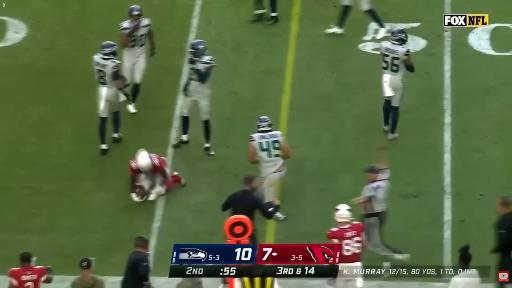Helmet: (135, 149, 153, 173), (189, 40, 207, 58), (391, 28, 408, 45), (100, 42, 117, 58), (257, 116, 273, 132), (334, 210, 352, 223), (128, 5, 143, 18), (335, 204, 351, 211)
Jersey: (249, 131, 283, 176), (327, 222, 364, 263), (381, 41, 410, 75), (125, 18, 151, 53), (93, 54, 120, 87), (8, 266, 46, 287), (190, 56, 216, 83), (150, 154, 167, 174)
Player: (174, 40, 216, 155), (93, 42, 131, 154), (119, 6, 155, 113), (380, 28, 414, 139), (248, 117, 291, 202), (327, 210, 365, 287), (130, 149, 185, 201), (8, 252, 52, 287), (325, 0, 353, 34), (335, 204, 351, 212)
